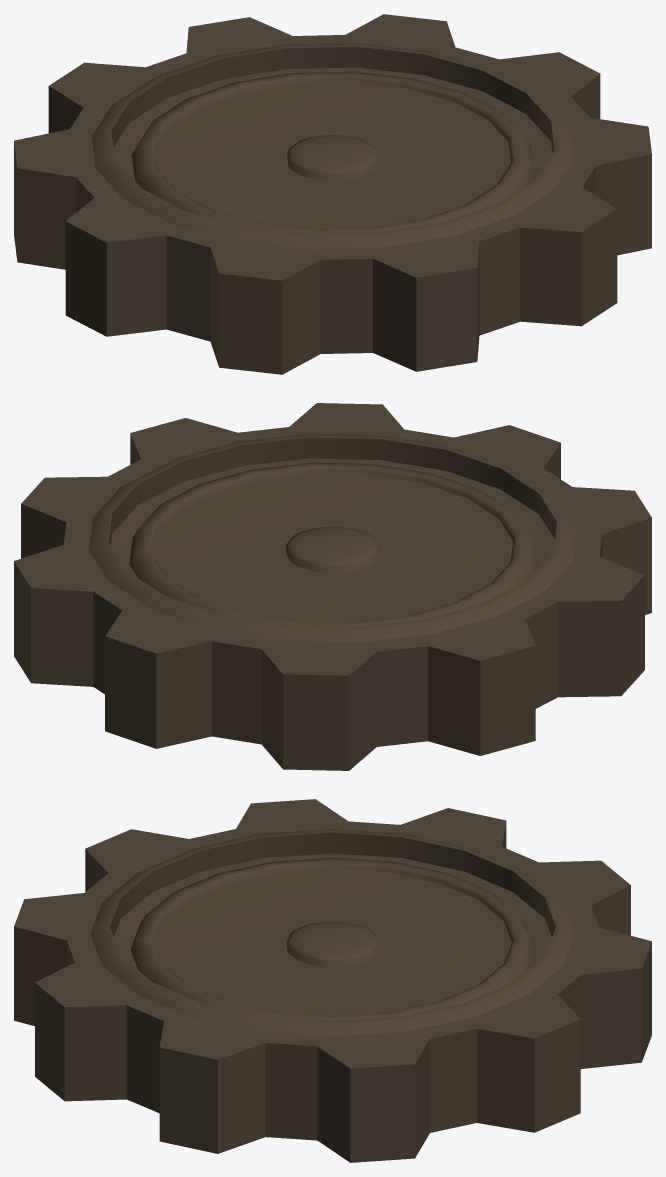
The model's file is SM_Clock.fbx.
3 views of the same model, one above another, from view 1: azimuth 30°, elevation 25°; view 2: azimuth 150°, elevation 25°; view 3: azimuth 270°, elevation 25° (orthographic).
Parts seen in each view (by area): view 1: Object005, Object006; view 2: Object005, Object006; view 3: Object005, Object006.
Boxes of the visible parts, x1,y1,x2,y2 form: Object005: (14,14,651,374); Object006: (155,82,510,229); Object005: (14,403,651,770); Object006: (153,473,512,622); Object005: (14,799,651,1162); Object006: (154,868,511,1016).
Bounding box in the file's own units: 127 × 127 × 22.3.
